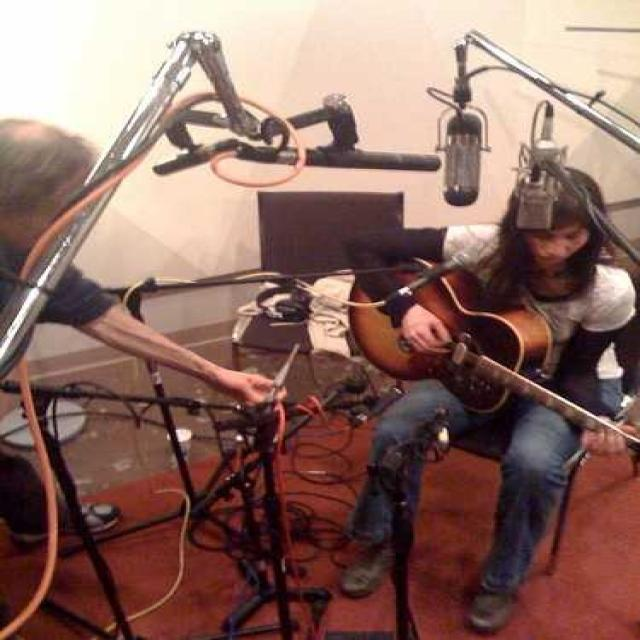microphone: (283, 136, 441, 183), (517, 119, 572, 236), (441, 106, 496, 218), (398, 243, 487, 297), (351, 385, 413, 423)
